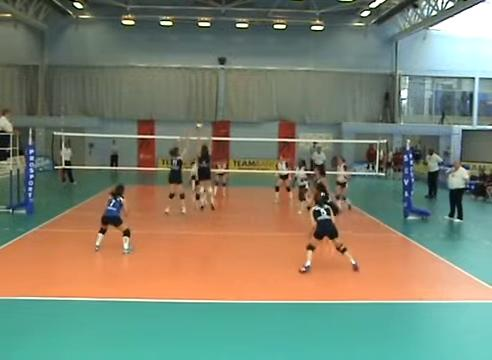muro: (191, 129, 218, 214), (166, 130, 188, 219)
